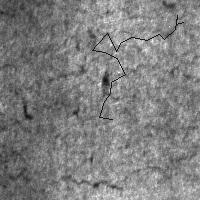crazing: (1, 116, 131, 191), (92, 15, 183, 119), (6, 31, 89, 124)
